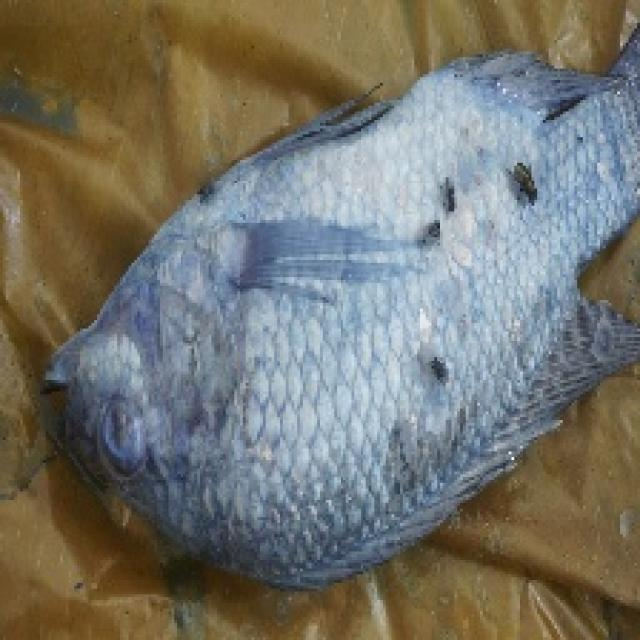Non-Fresh: (228, 147, 572, 439), (87, 380, 182, 490)
